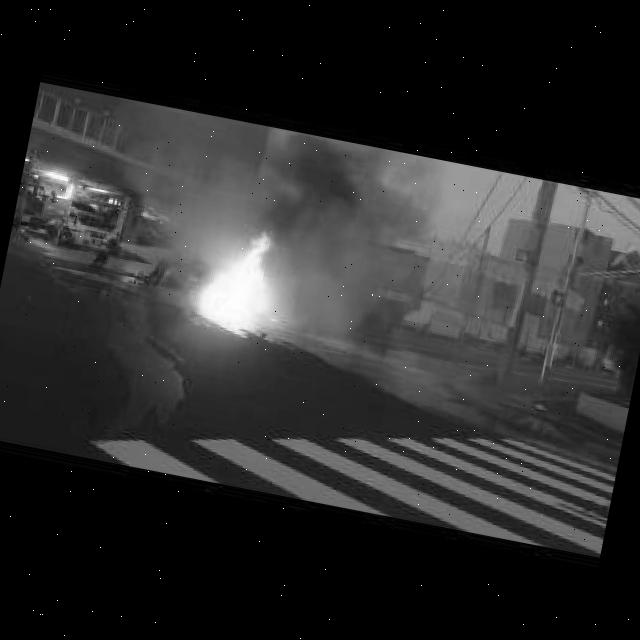fire: (251, 122, 361, 262), (190, 222, 294, 322)
